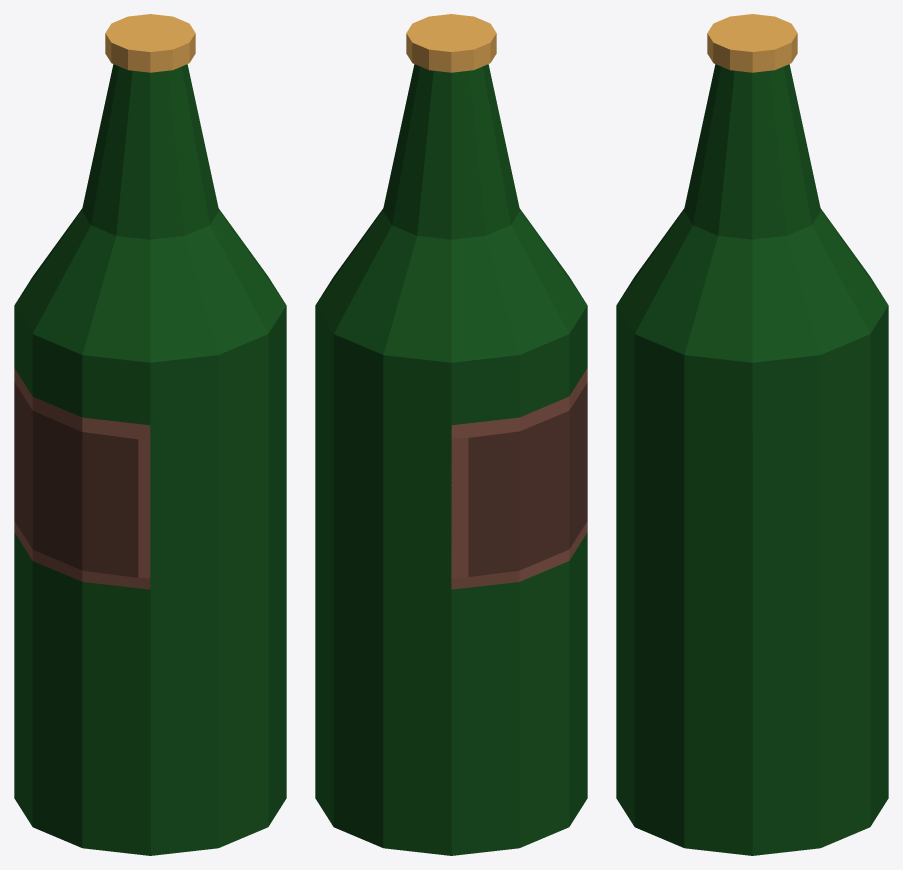
File: BeerBottle.fbx
The picture shows the model from 3 angles, left to right: view 1: azimuth 30°, elevation 25°; view 2: azimuth 150°, elevation 25°; view 3: azimuth 270°, elevation 25°; orthographic projection.
Visible parts, largest first — view 1: Cylinder; view 2: Cylinder; view 3: Cylinder.
Part boxes in pixels (x1,y1,x2,y2): Cylinder: [14, 14, 286, 855]; Cylinder: [315, 14, 587, 855]; Cylinder: [616, 14, 888, 855].
Bounding box in the file's own units: 200 × 621 × 200.
